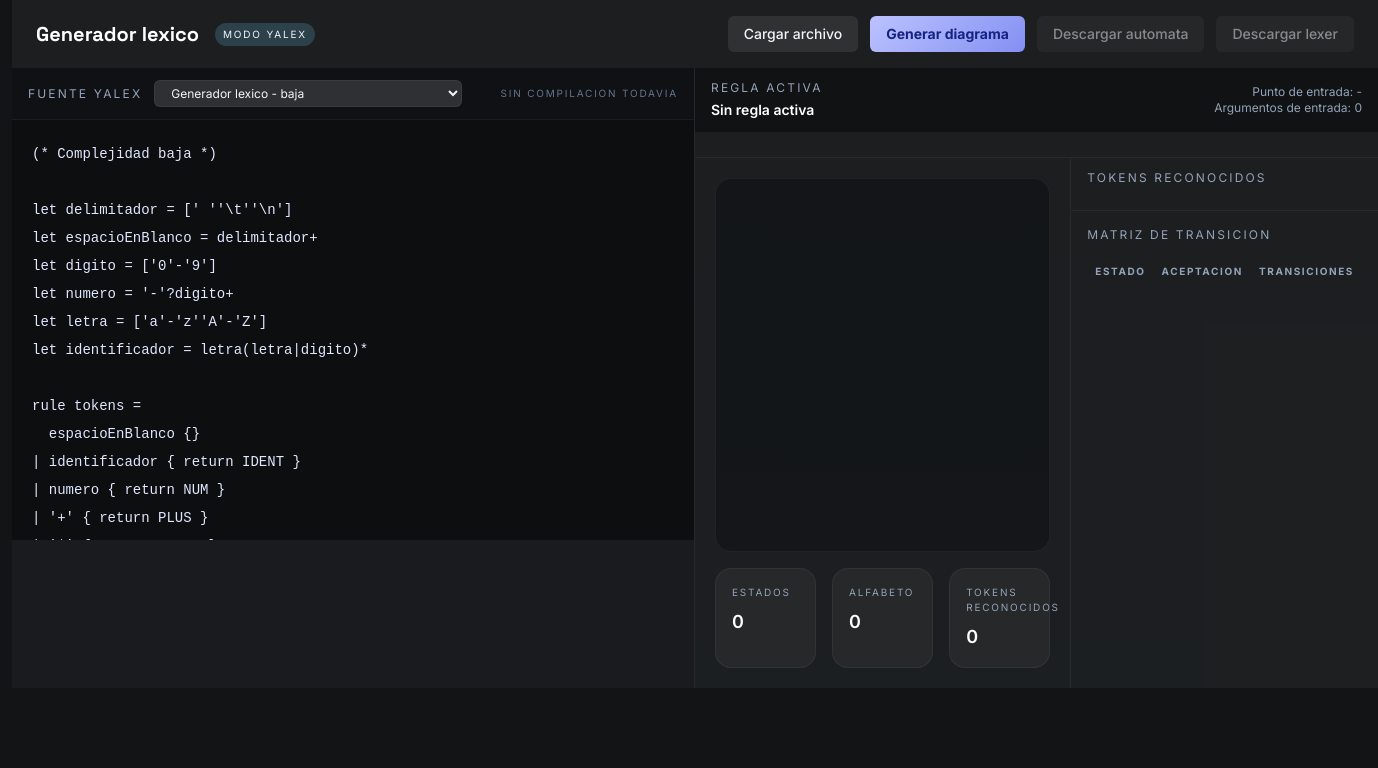
Test: GeneratorTool › compiles YALex source, renders results and allows rule switching
Click the button "Generar diagrama".
click(948, 34)  # box [870,16,1025,52]
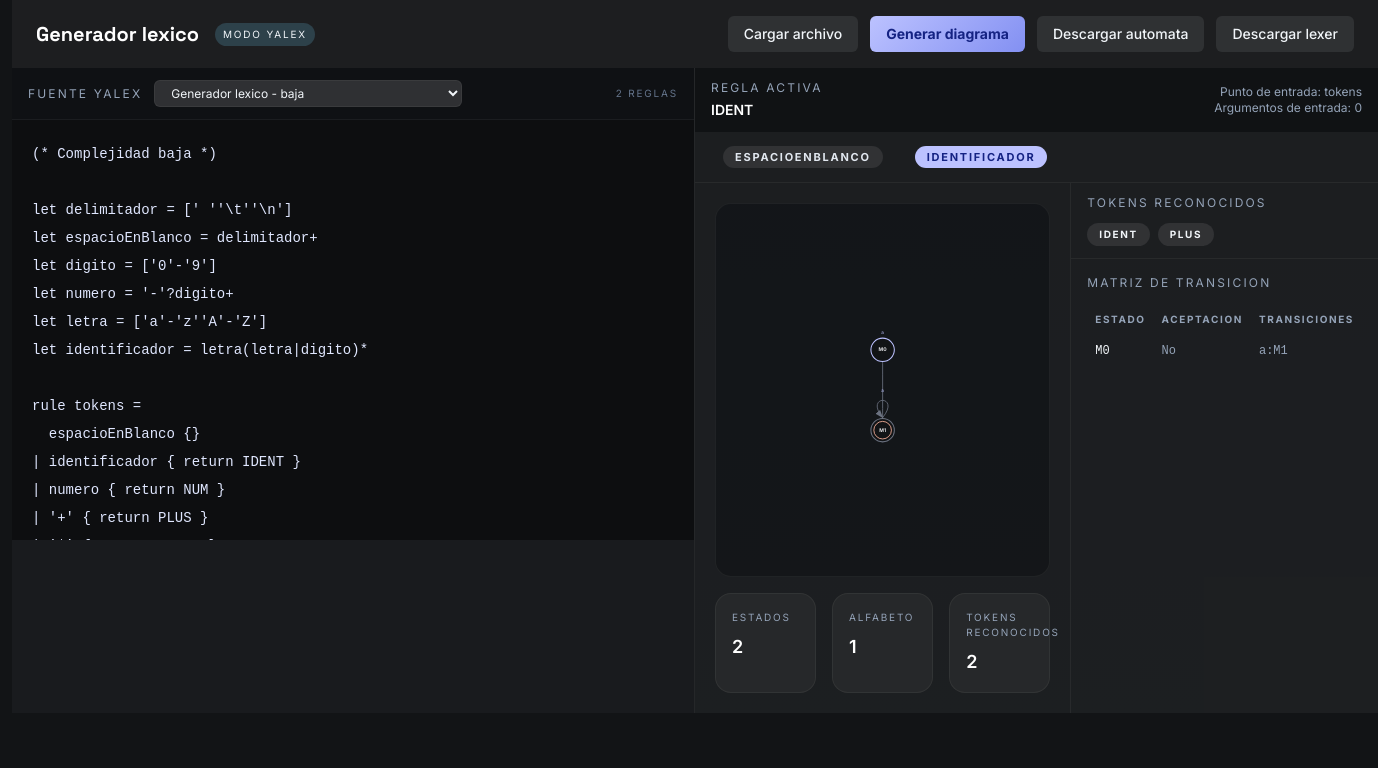
Expected: the text with test id "active-rule-token" reads "IDENT", [711,101,753,118]
Expected: the icon with test id "generator-graph" is shown, [732,220,1033,560]
Click the button "espacioEnBlanco".
click(803, 157)  # box [711,145,895,170]
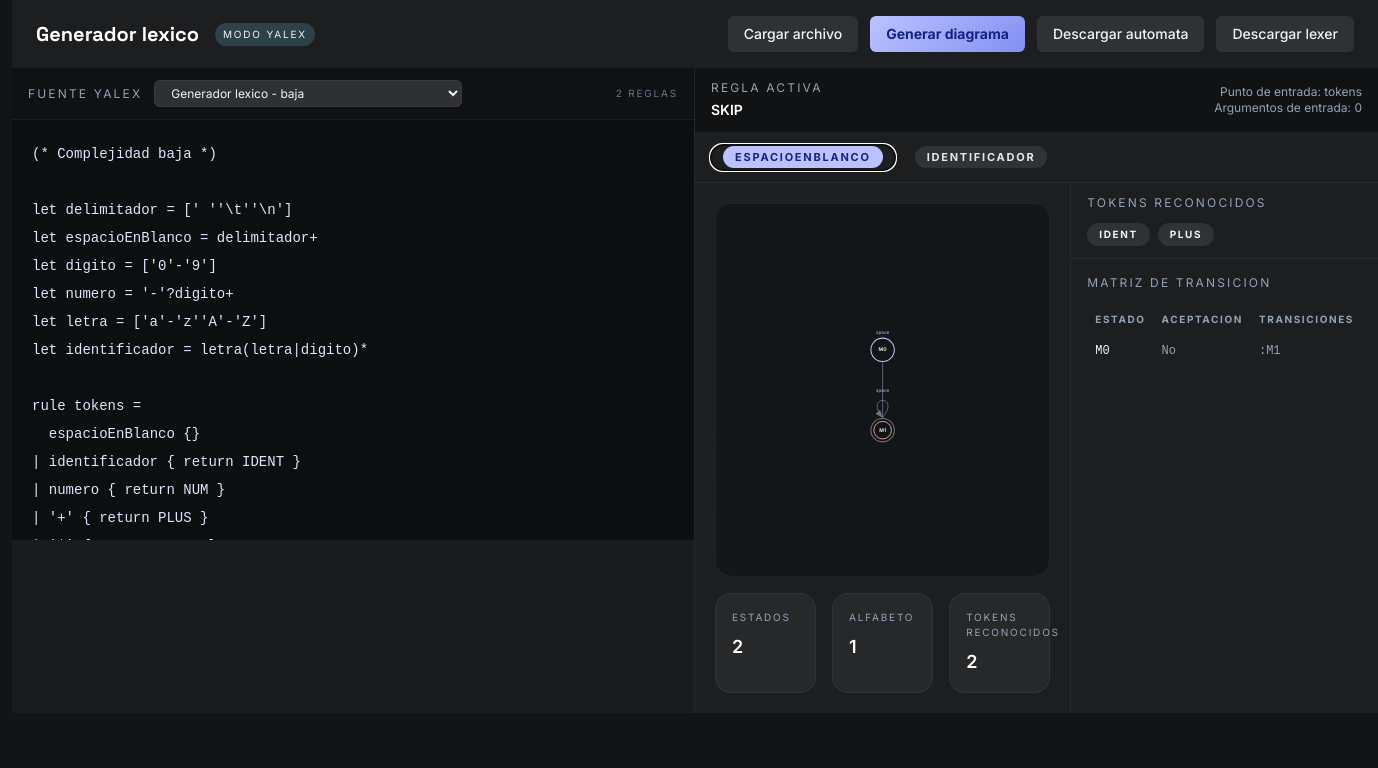
Expected: the text with test id "active-rule-token" reads "SKIP", [711,101,743,118]
